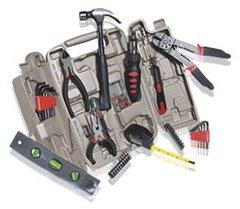hammer: (76, 6, 123, 110)
